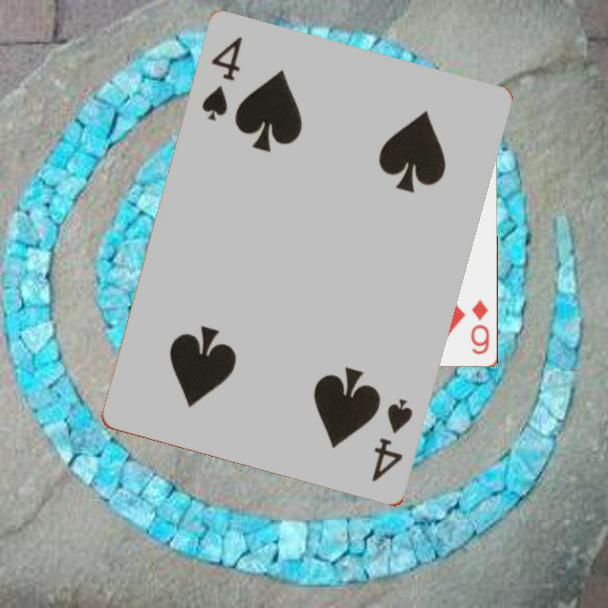d06: (468, 297, 493, 357)
s04: (198, 33, 246, 125), (368, 395, 416, 485)
